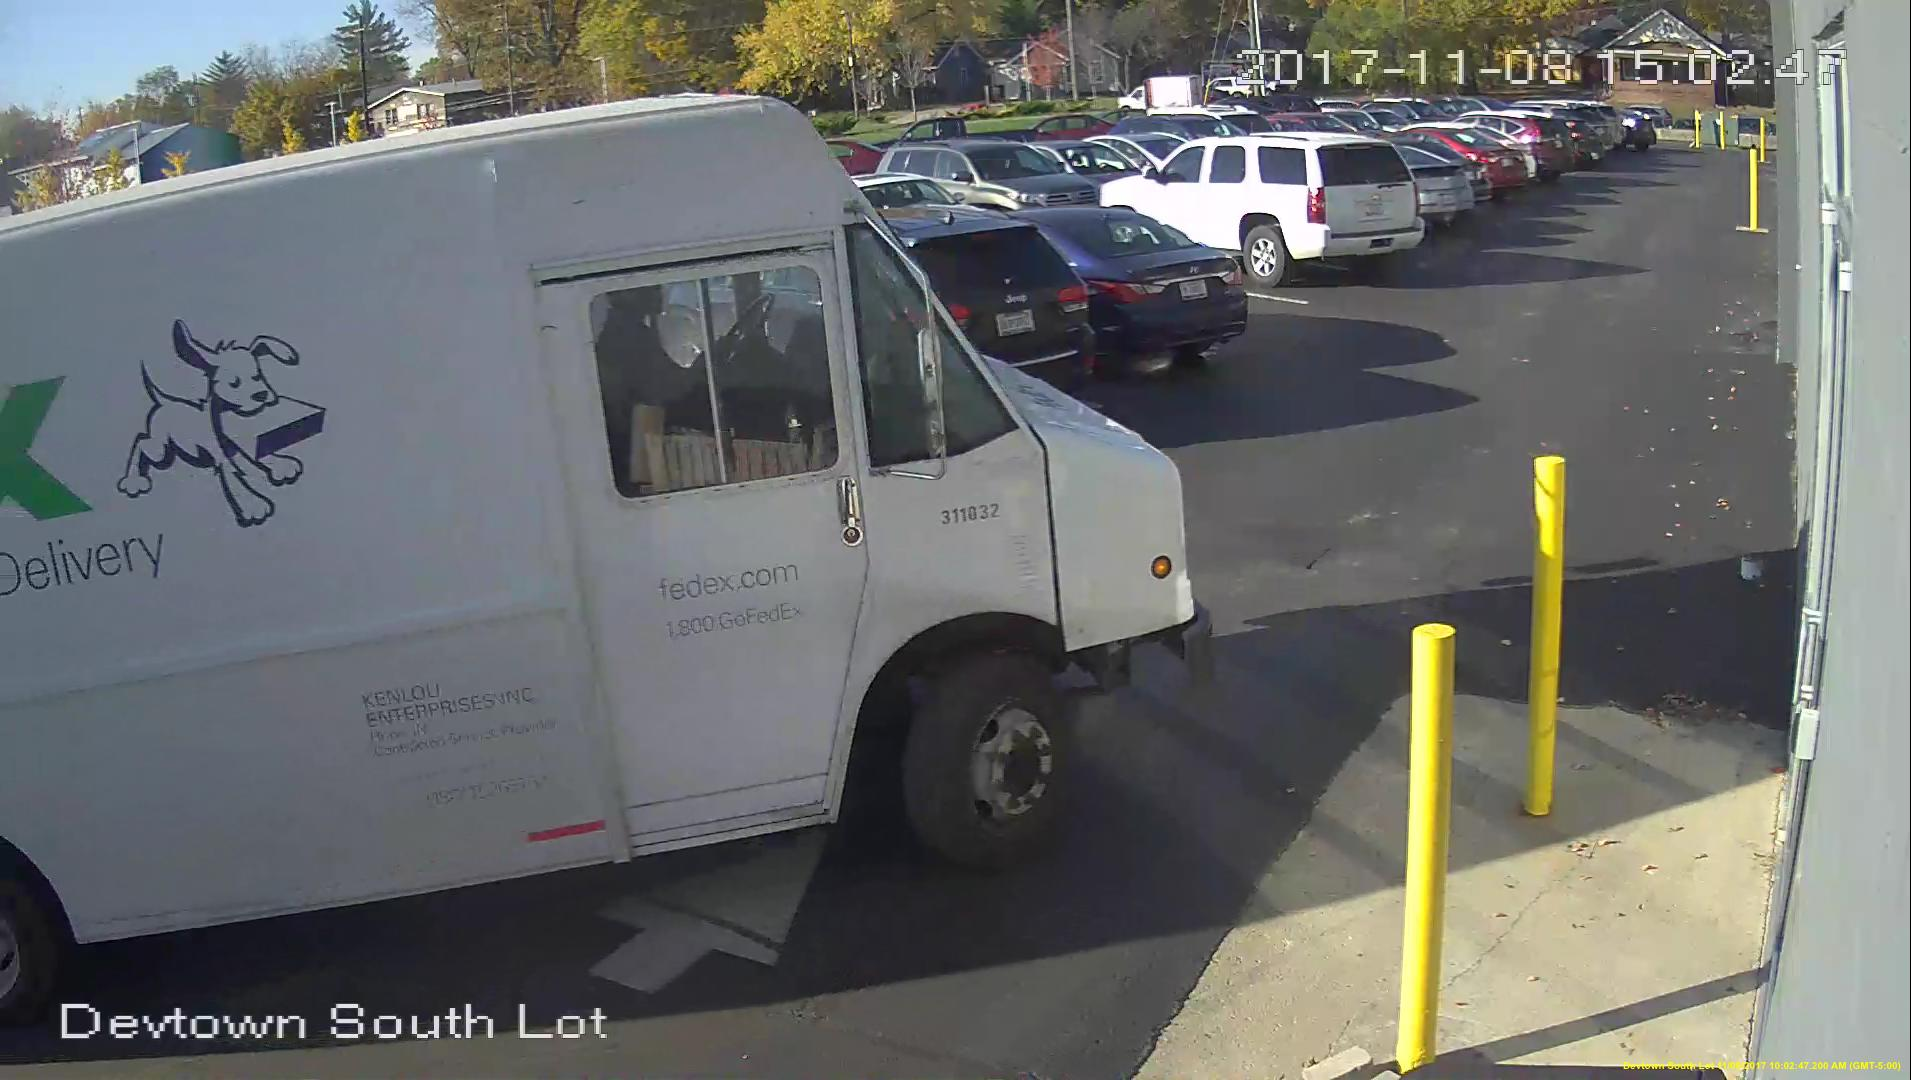fedex_truck: (1, 84, 1219, 987)
